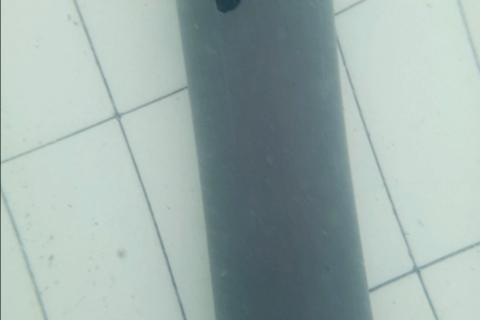kebocoran: (214, 0, 243, 16)
